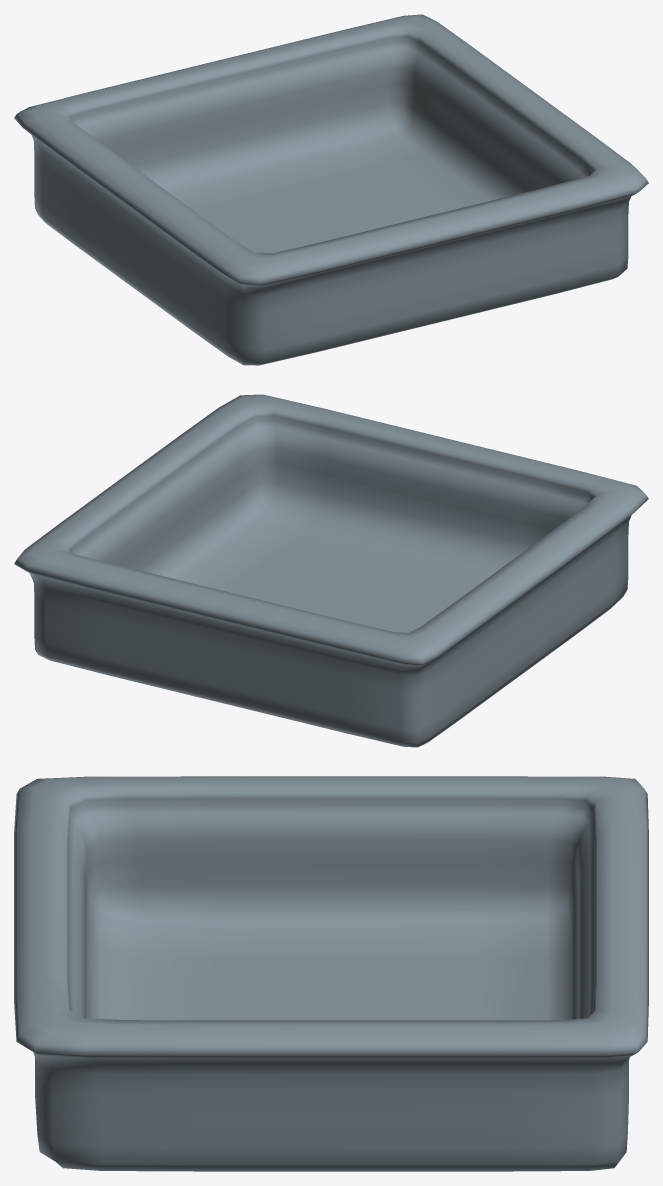
Rendered from SquareCakePan.fbx.
The picture shows the model from 3 angles, top to bottom: view 1: azimuth 30°, elevation 25°; view 2: azimuth 150°, elevation 25°; view 3: azimuth 270°, elevation 25°; orthographic projection. The views are drawn at different scales.
Parts seen in each view (by area): view 1: SquareCakePan; view 2: SquareCakePan; view 3: SquareCakePan.
Boxes of the visible parts, bbox=[...] form: SquareCakePan: bbox=[14, 14, 648, 365]; SquareCakePan: bbox=[14, 394, 648, 747]; SquareCakePan: bbox=[14, 776, 648, 1171].
Size of the model in its own units: 15.74 by 15.46 by 3.93.
Materials: 1 (1 with a texture image).
